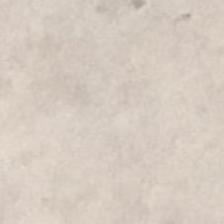Non_Crack: (27, 23, 223, 224)
